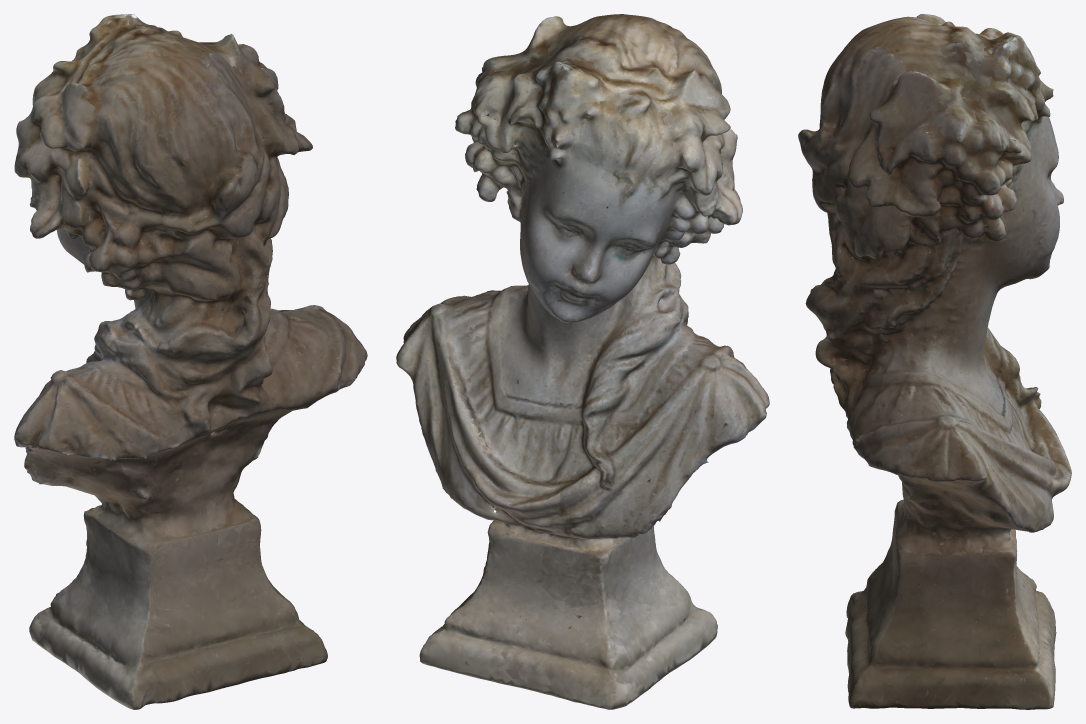
File: girl_statue-v1.glb
3 renders of one model, left to right at view 1: azimuth 30°, elevation 25°; view 2: azimuth 150°, elevation 25°; view 3: azimuth 270°, elevation 25°, orthographic.
Visible parts, largest first — view 1: Statue_0; view 2: Statue_0; view 3: Statue_0.
Part boxes in pixels (bbox=[...]): Statue_0: bbox=[14, 14, 367, 709]; Statue_0: bbox=[396, 14, 769, 709]; Statue_0: bbox=[798, 14, 1071, 709].
Bounding box in the file's own units: 2.09 × 3.55 × 1.43.
3 materials, 3 textured.
